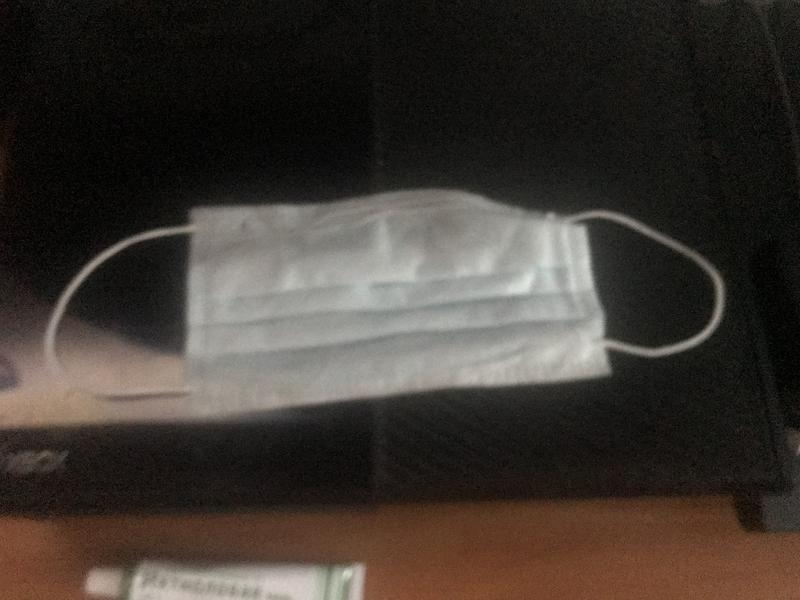medical_mask: (47, 206, 724, 419)
